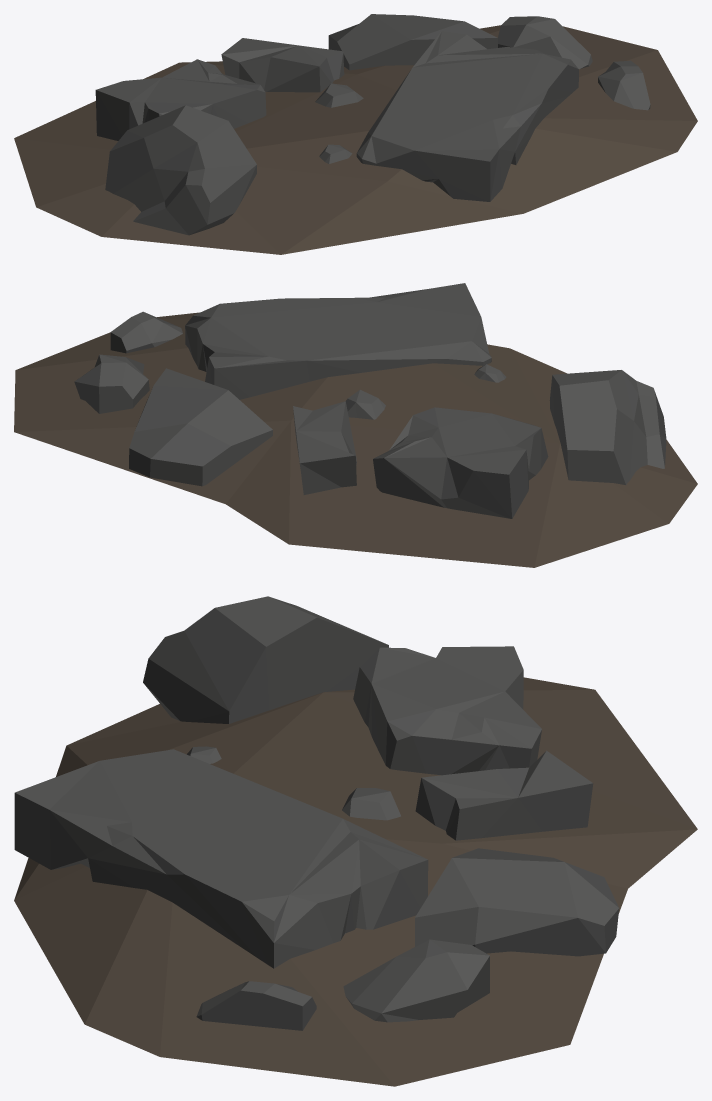
The model's file is rubble.gltf.
3 views of the same model, one above another, from view 1: azimuth 30°, elevation 25°; view 2: azimuth 150°, elevation 25°; view 3: azimuth 270°, elevation 25° (orthographic). The views are drawn at different scales.
Parts seen in each view (by area): view 1: rubble; view 2: rubble; view 3: rubble.
Boxes of the visible parts, bbox=[...] form: rubble: bbox=[14, 14, 697, 254]; rubble: bbox=[14, 283, 697, 567]; rubble: bbox=[14, 596, 697, 1086].
Size of the model in its own units: 2.38 by 0.3158 by 1.59.
1 material, 1 textured.
